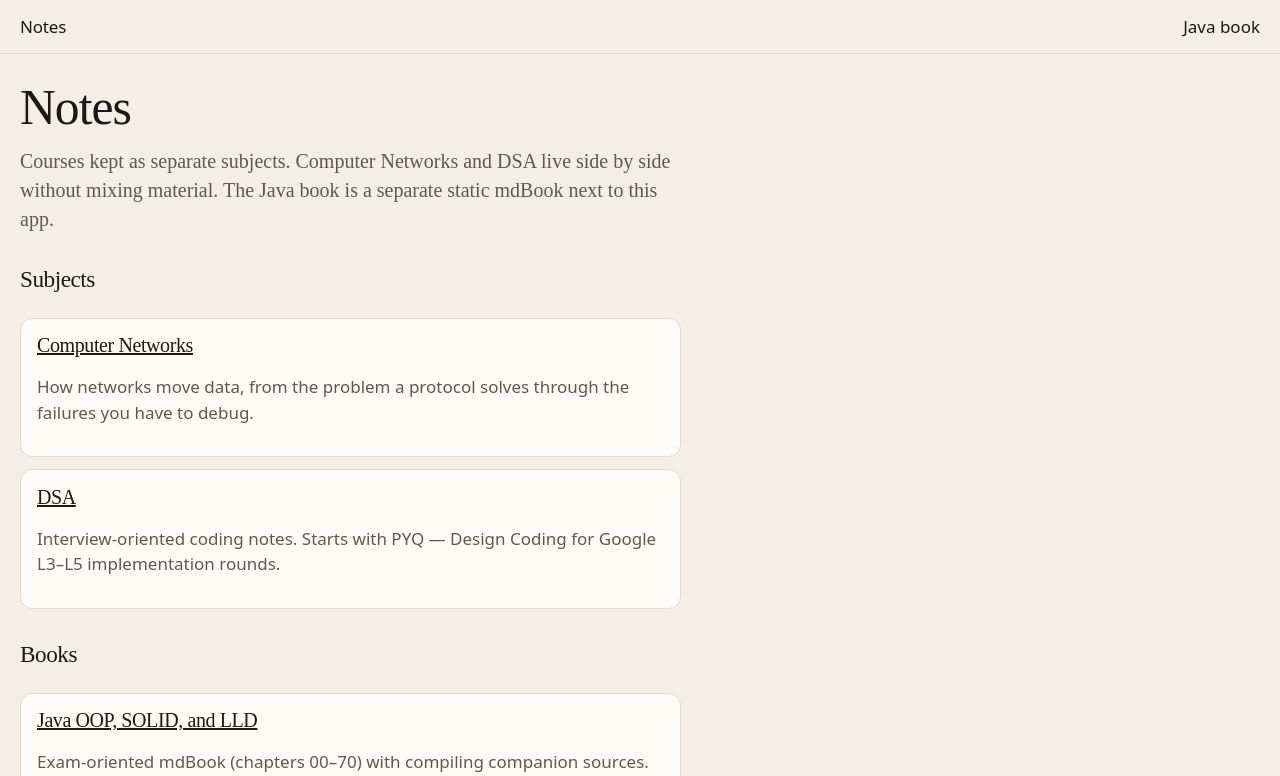
Scenario: DSA design coding section › is reachable from the notes home without removing Computer Networks
The width and height of the screenshot is (1280, 776).
Expected: the link "Computer Networks" is shown, [37, 334, 193, 356]
Click the link "DSA": (56, 497) [37, 486, 76, 508]
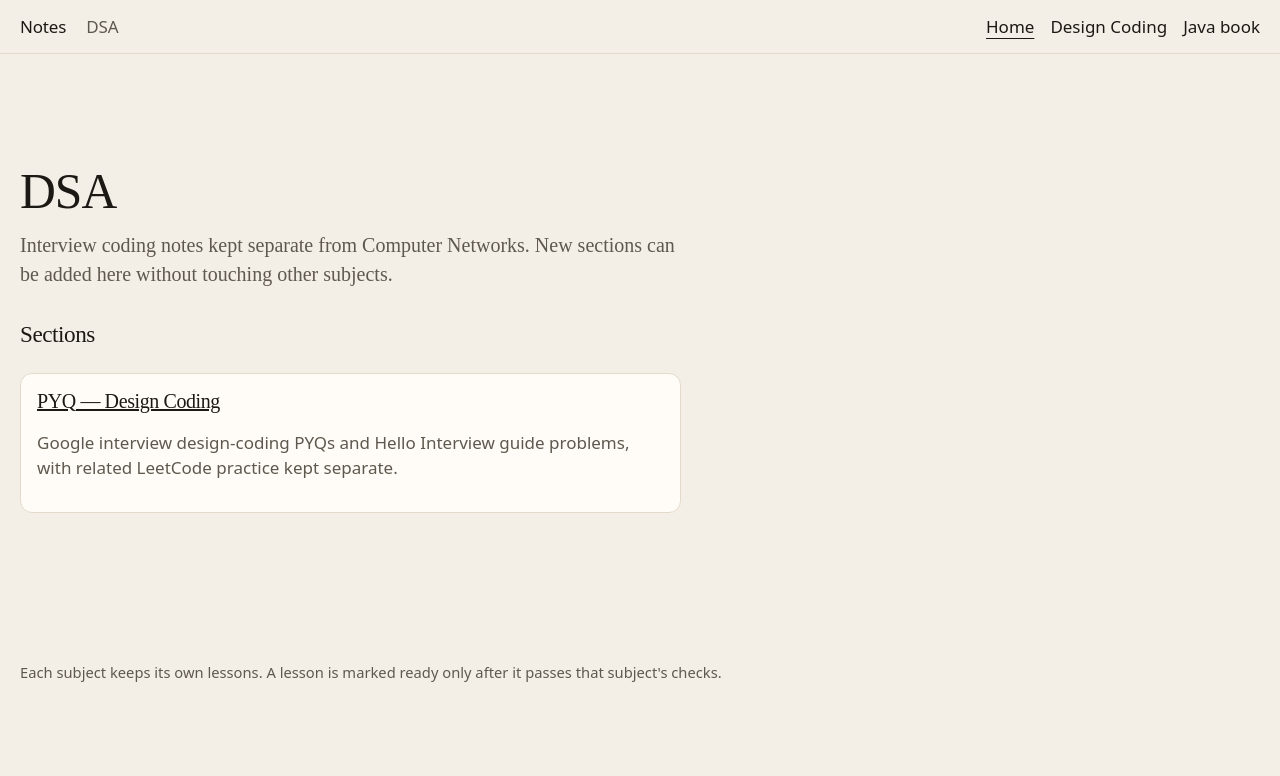
Result: the heading "DSA" is shown at [20, 164, 116, 219]
Click the link "PYQ — Design Coding": (128, 400) [37, 390, 220, 412]
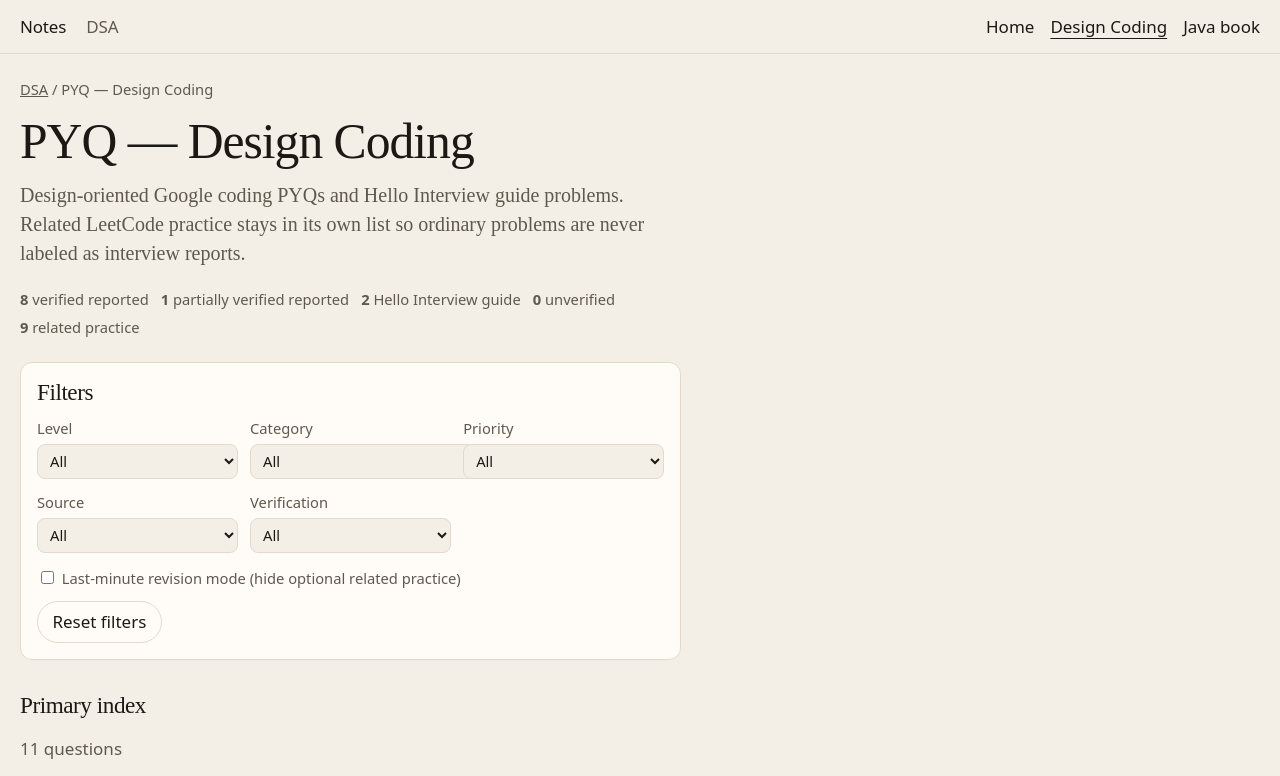
Result: the heading "PYQ — Design Coding" is shown at [20, 114, 474, 169]
Result: the list named "Question counts" shows "verified reported" at [28, 289, 149, 309]
